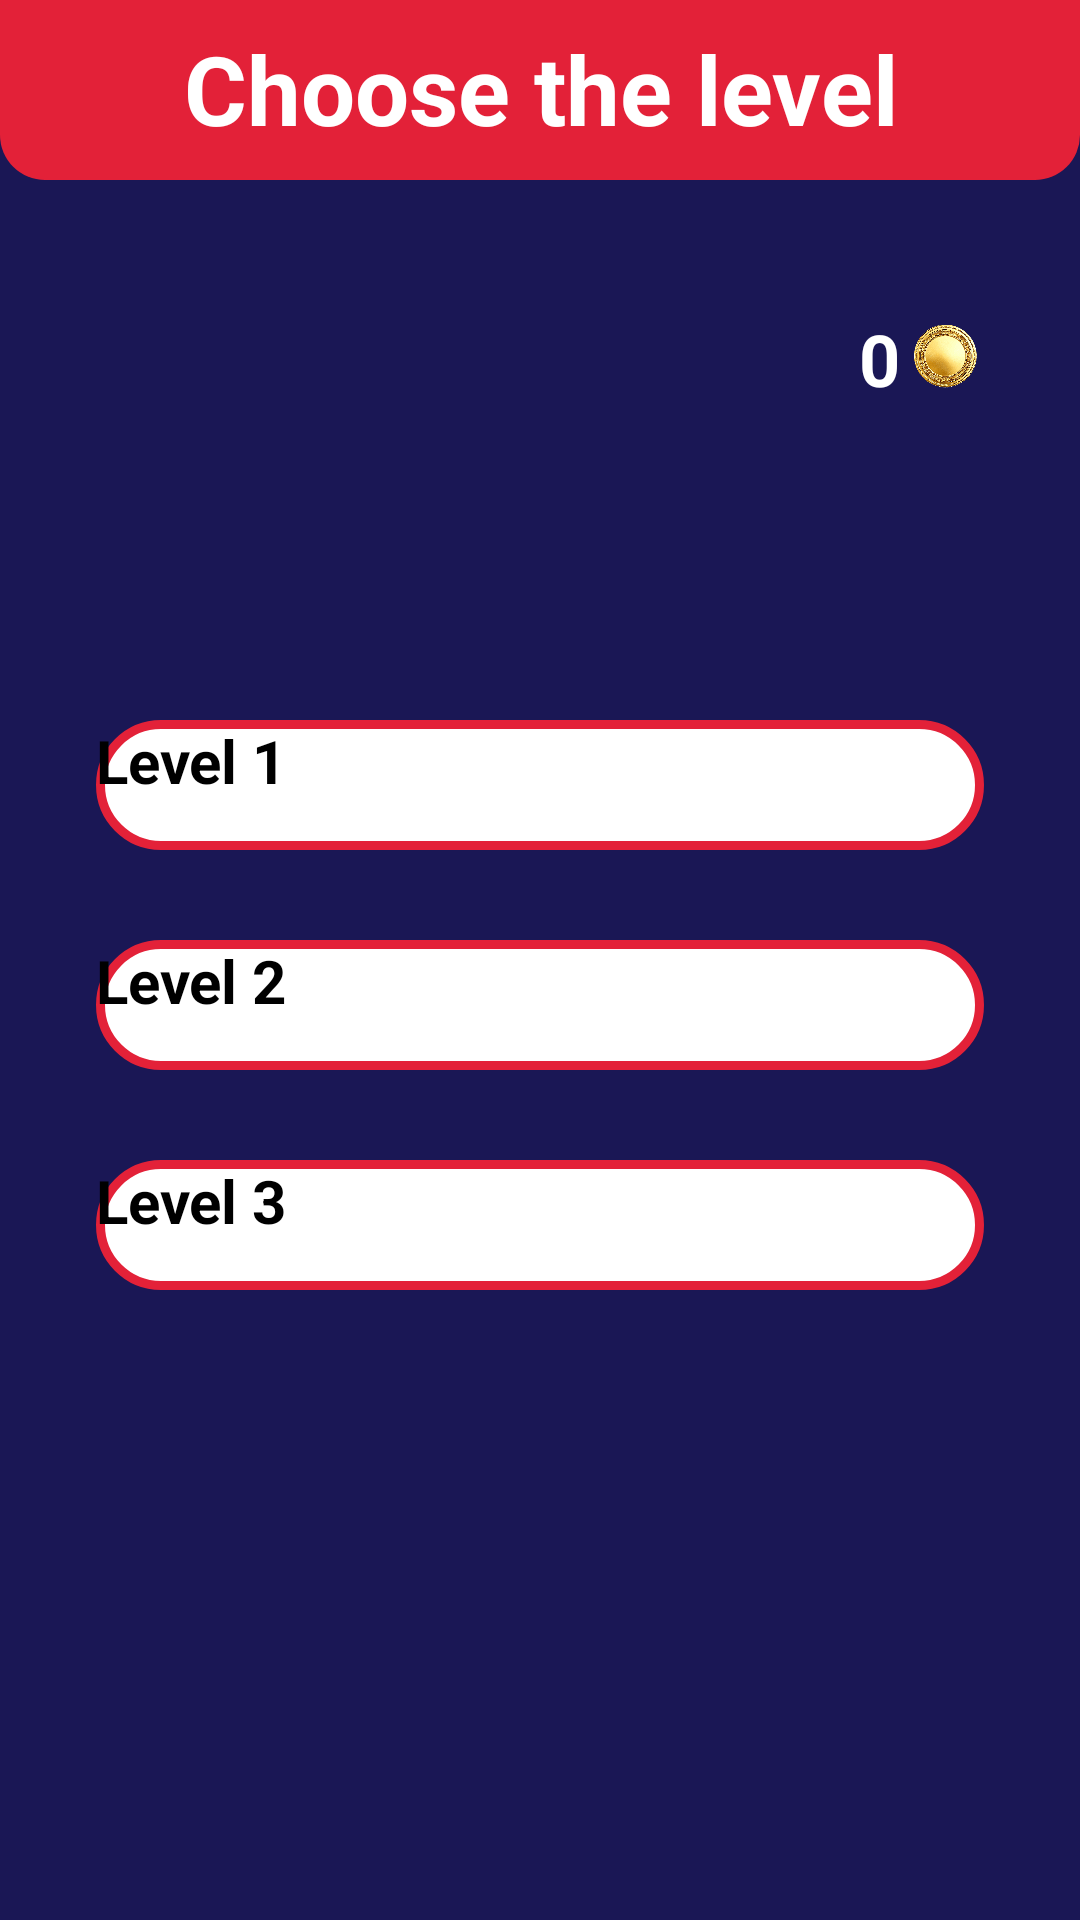

Icon click points for this 1080*1920 phone screenshot, format [x,y]:
coin: [945,356]
